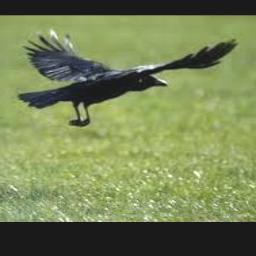Crow: (16, 24, 237, 127)
